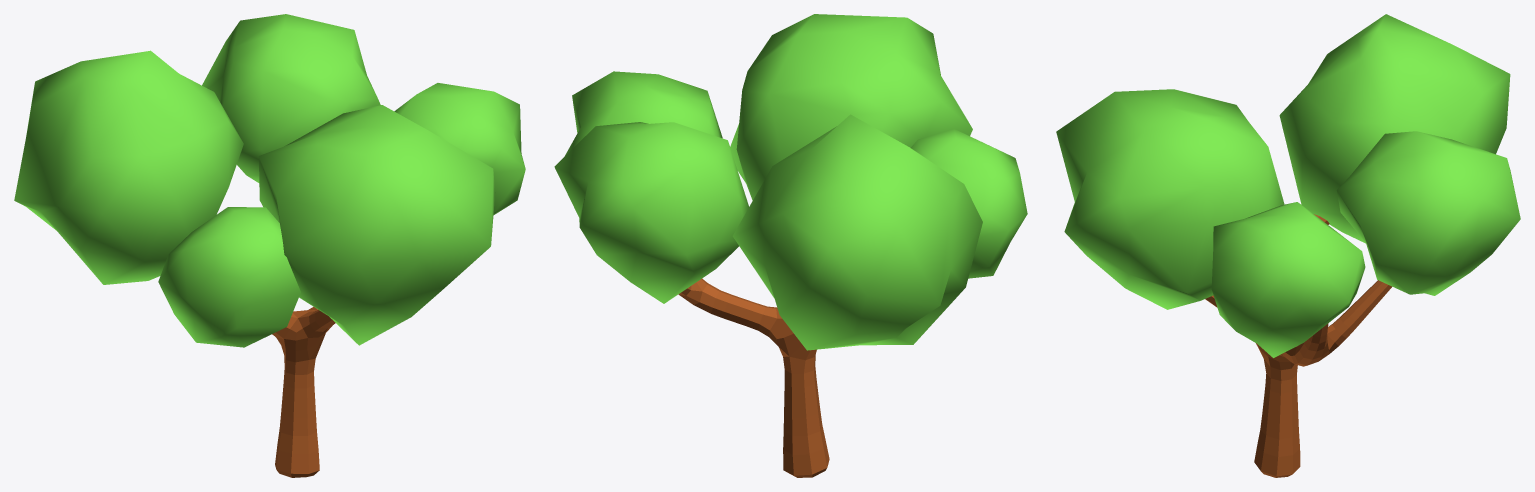
The model's file is NormalTree.fbx.
3 views of the same model, side by side, from view 1: azimuth 30°, elevation 25°; view 2: azimuth 150°, elevation 25°; view 3: azimuth 270°, elevation 25° (orthographic). The views are drawn at different scales.
Visible parts, largest first — view 1: Bush, Tree; view 2: Bush, Tree; view 3: Bush, Tree.
Part boxes in pixels (x1=…): Bush: x1=14, y1=14, x2=525, y2=347; Tree: x1=272, y1=307, x2=335, y2=477; Bush: x1=554, y1=14, x2=1027, y2=350; Tree: x1=678, y1=278, x2=829, y2=477; Bush: x1=1056, y1=14, x2=1520, y2=357; Tree: x1=1205, y1=214, x2=1391, y2=477.
Bounding box in the file's own units: 917 × 833 × 880.
